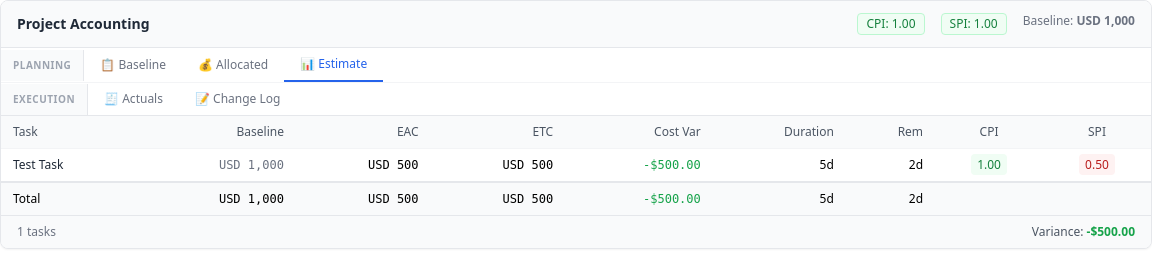
it: AccountingDashboard › shows empty state for actuals when no entries
# Switch to Actuals tab
Click the button "🧾 Actuals" at (134, 99), box left=88, top=83, right=179, bottom=115
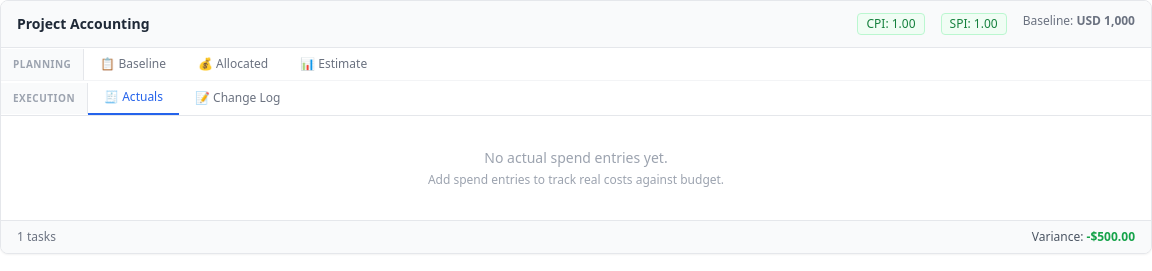
Now the text "No actual spend entries yet." is shown, box left=484, top=148, right=668, bottom=167
